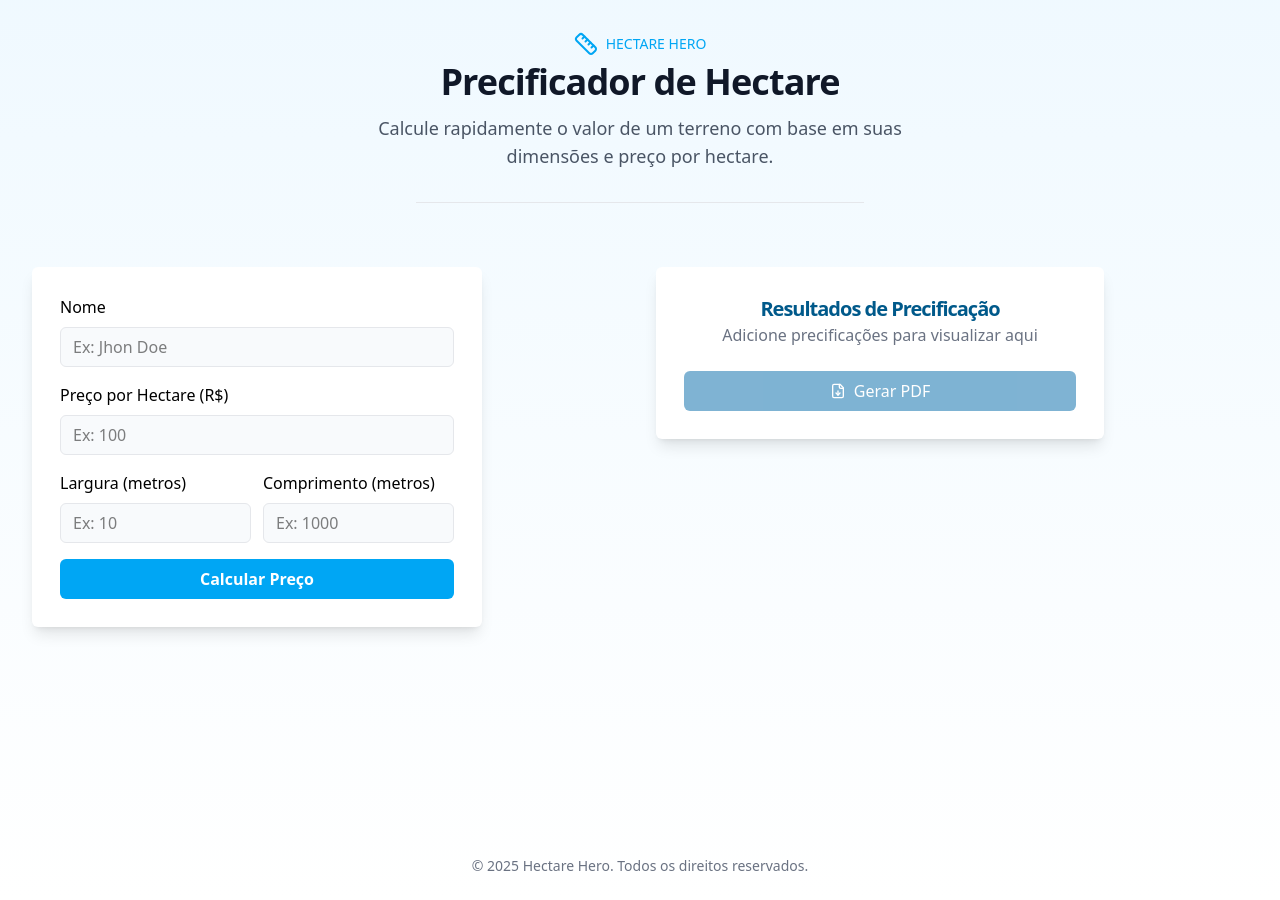
Test case: <App /> & <HectareCalculator /> › should add a hectare pricing on list
The image size is (1280, 900).
Type "TEST" into the field with placeholder "Ex: Jhon Doe" at {"x": 257, "y": 347}, box top-left (60, 327), bottom-right (454, 367)
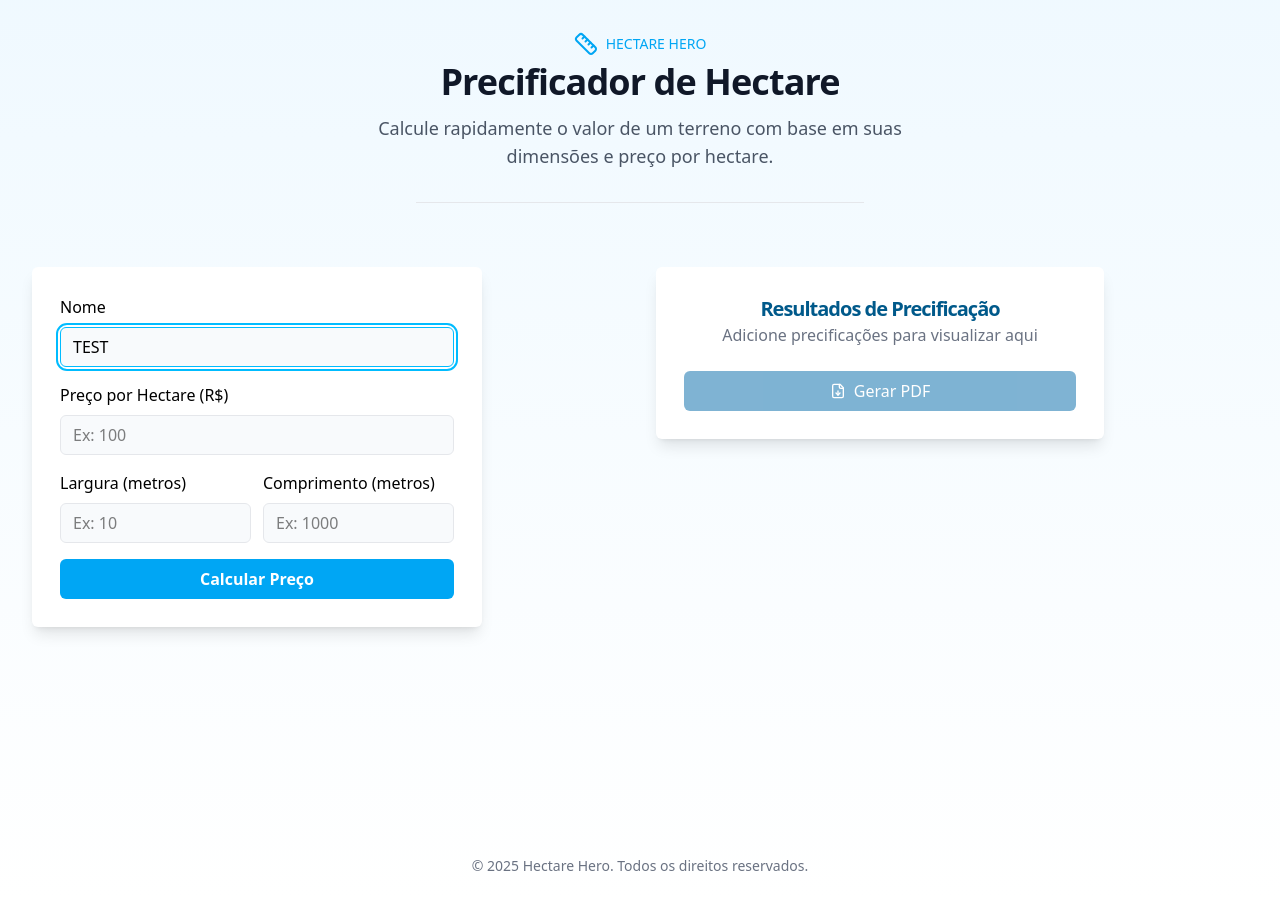
Type "100" into the number field with placeholder "Ex: 100" at {"x": 257, "y": 435}, box top-left (60, 415), bottom-right (454, 455)
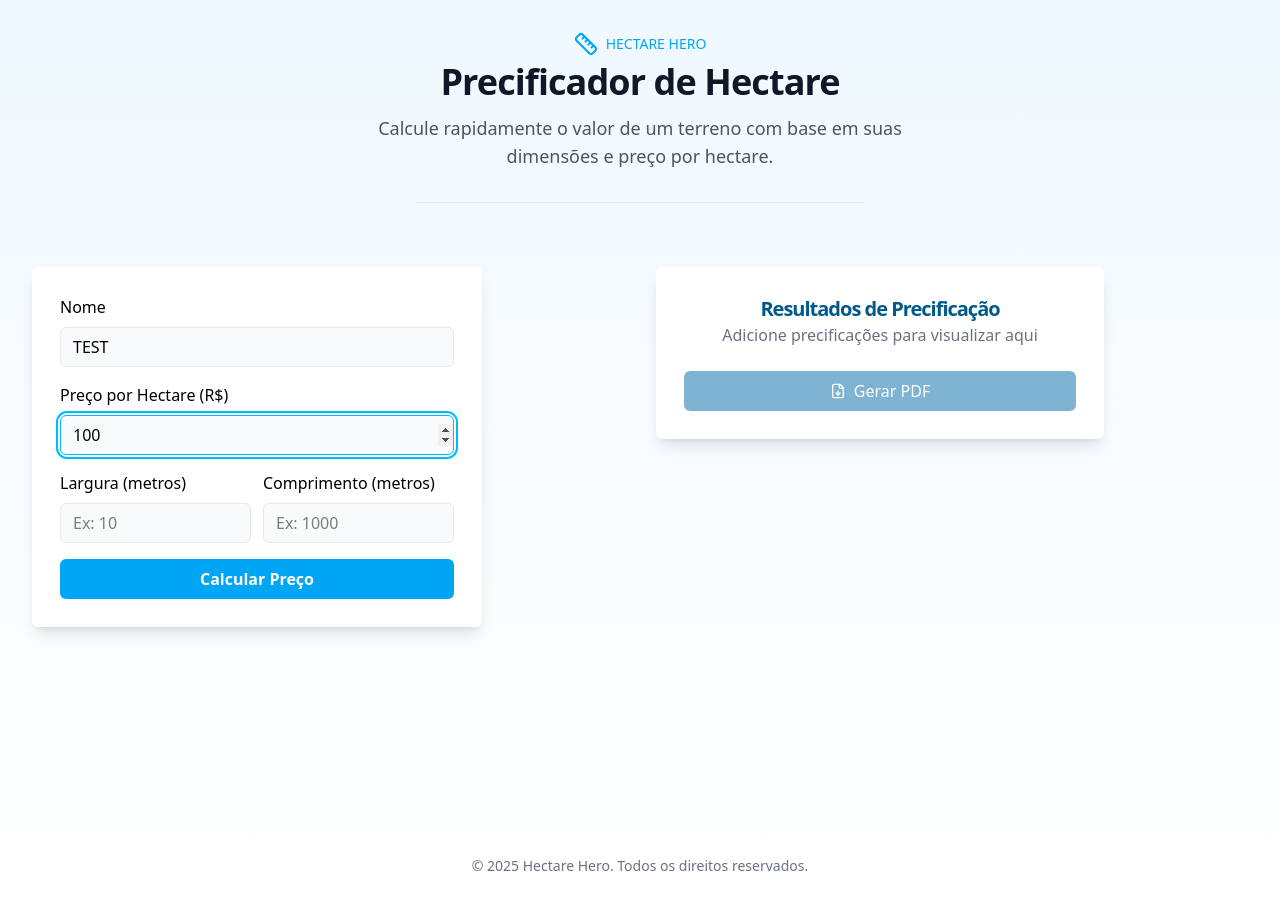
Type "10" into the number field with placeholder "Ex: 10" at {"x": 156, "y": 523}, box top-left (60, 503), bottom-right (251, 543)
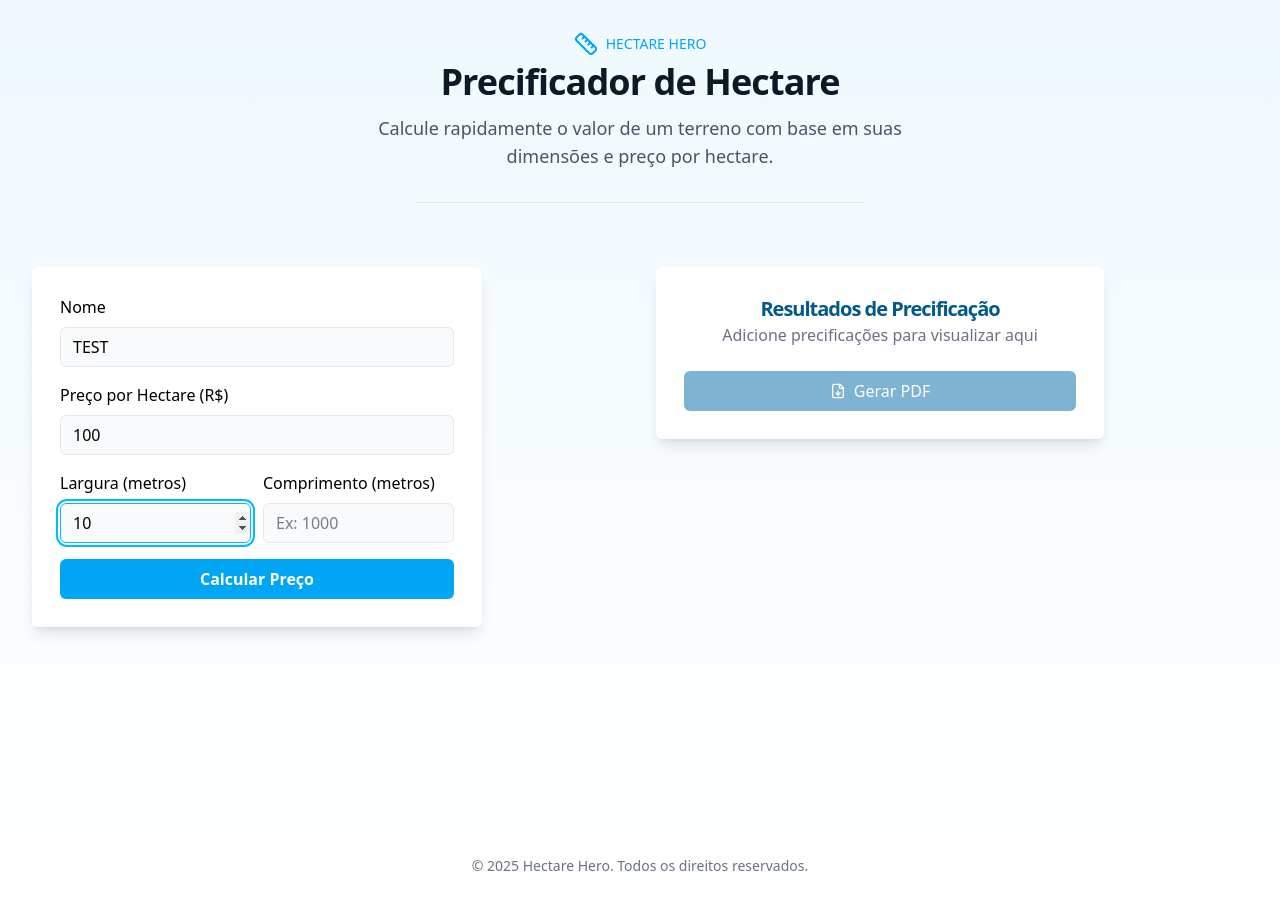
Type "1000" into the number field with placeholder "Ex: 1000" at {"x": 358, "y": 523}, box top-left (263, 503), bottom-right (454, 543)
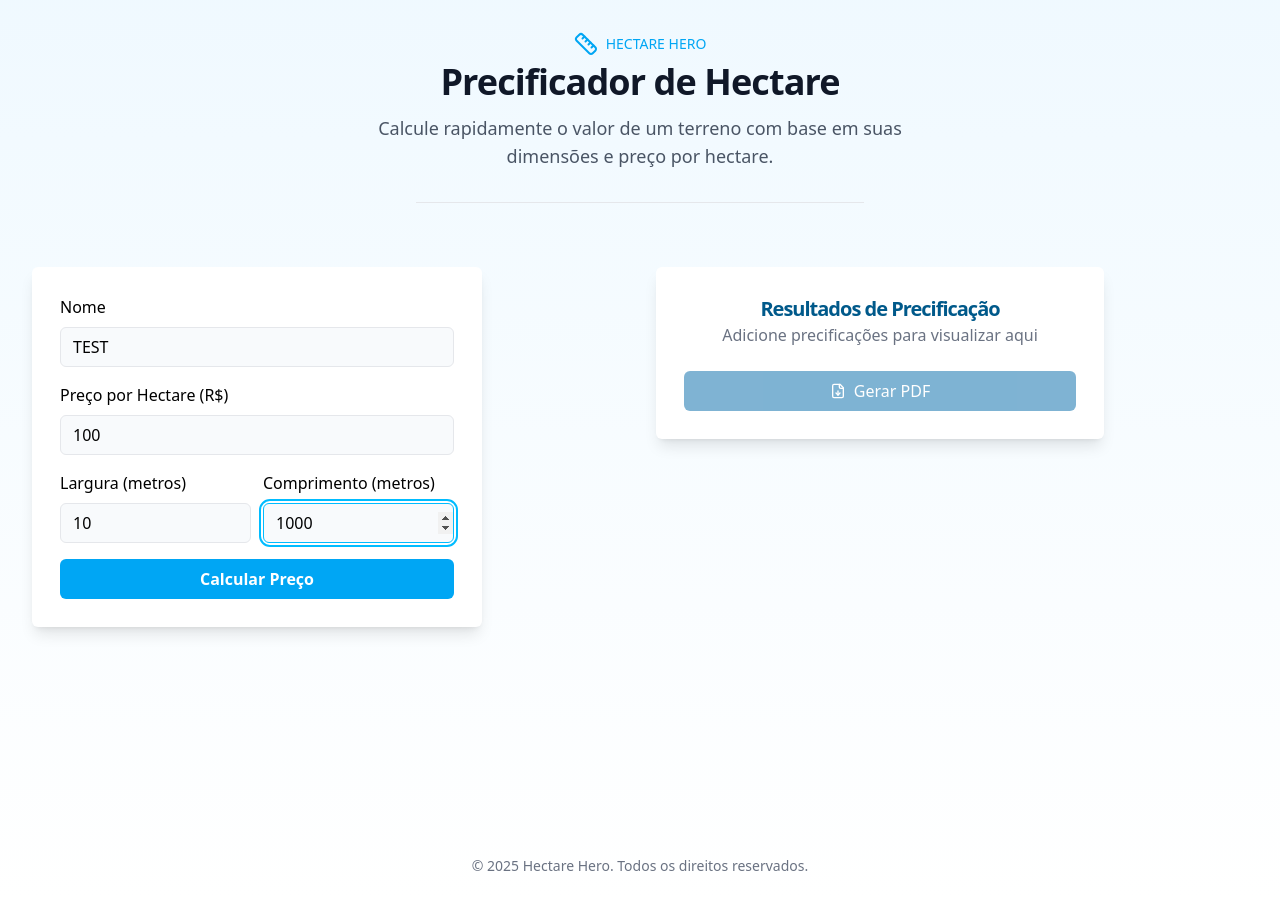
Click the button "Calcular Preço" at {"x": 257, "y": 579}, box top-left (60, 559), bottom-right (454, 599)
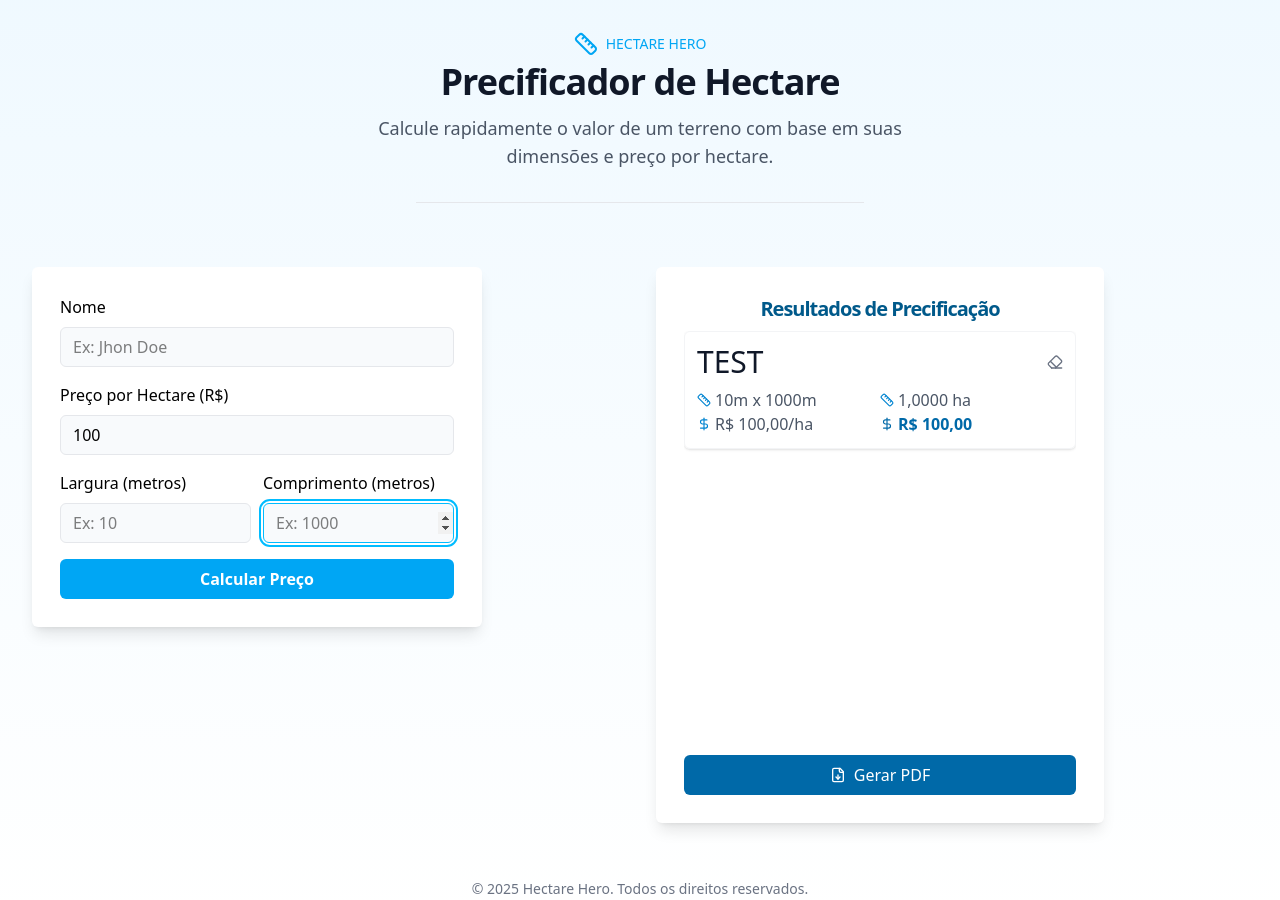
Expected: the heading "TEST" is shown, top-left (697, 344), bottom-right (764, 380)
